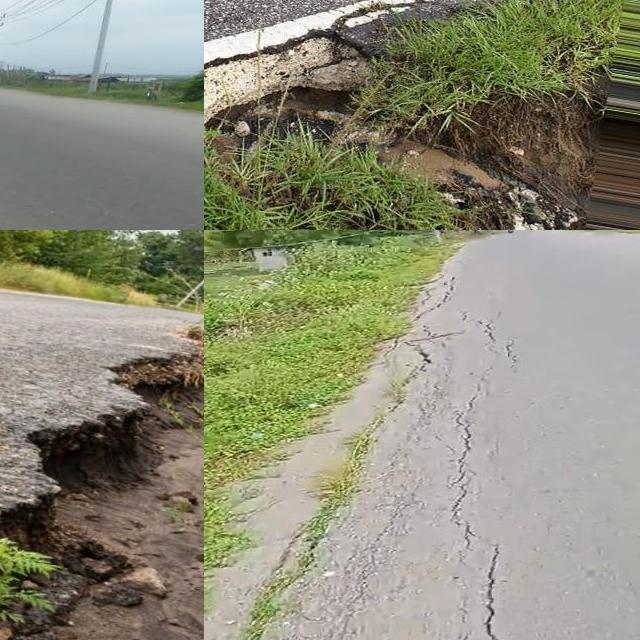Memanjang: (446, 361, 513, 640)
Pinggir: (0, 333, 204, 639), (204, 0, 498, 163)
